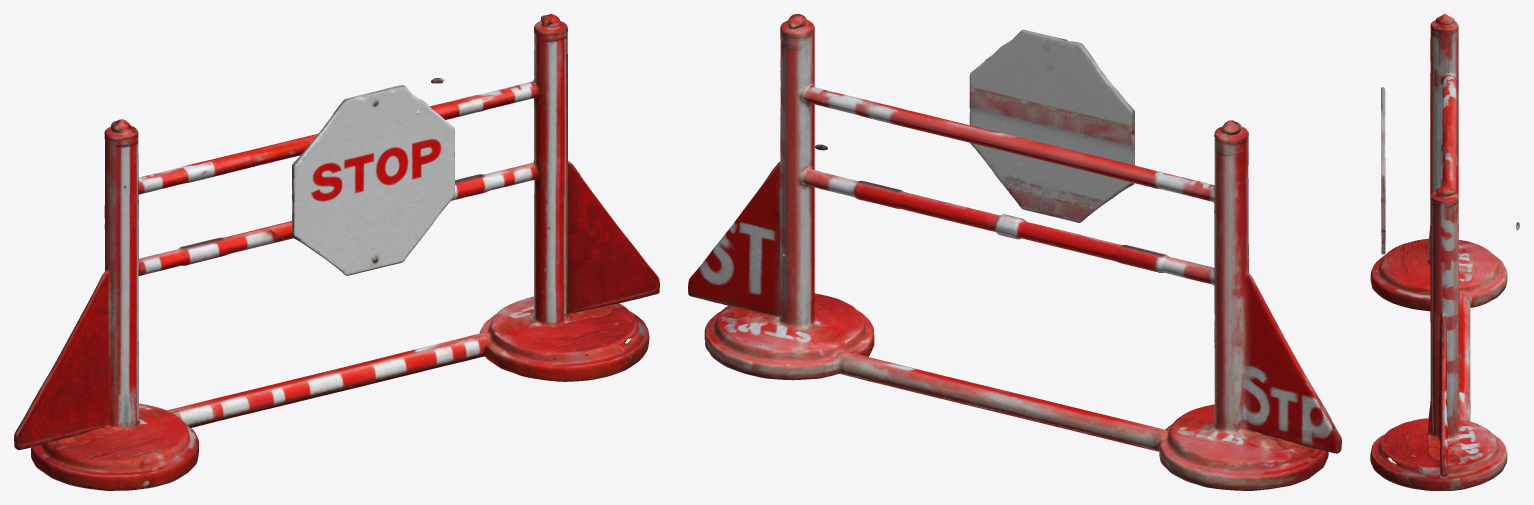
Rendered from Necesito_un_obstaculo_0311000809_texture.fbx.
3 renders of one model, left to right at view 1: azimuth 30°, elevation 25°; view 2: azimuth 150°, elevation 25°; view 3: azimuth 270°, elevation 25°, orthographic. The views are drawn at different scales.
Visible parts, largest first — view 1: Mesh_0.005; view 2: Mesh_0.005; view 3: Mesh_0.005.
Boxes of the visible parts, x1,y1,x2,y2 form: Mesh_0.005: (14,14,659,490); Mesh_0.005: (688,14,1341,490); Mesh_0.005: (1370,14,1519,490).
Bounding box in the file's own units: 200 × 100 × 49.18.
Materials: 1 (1 with a texture image).
